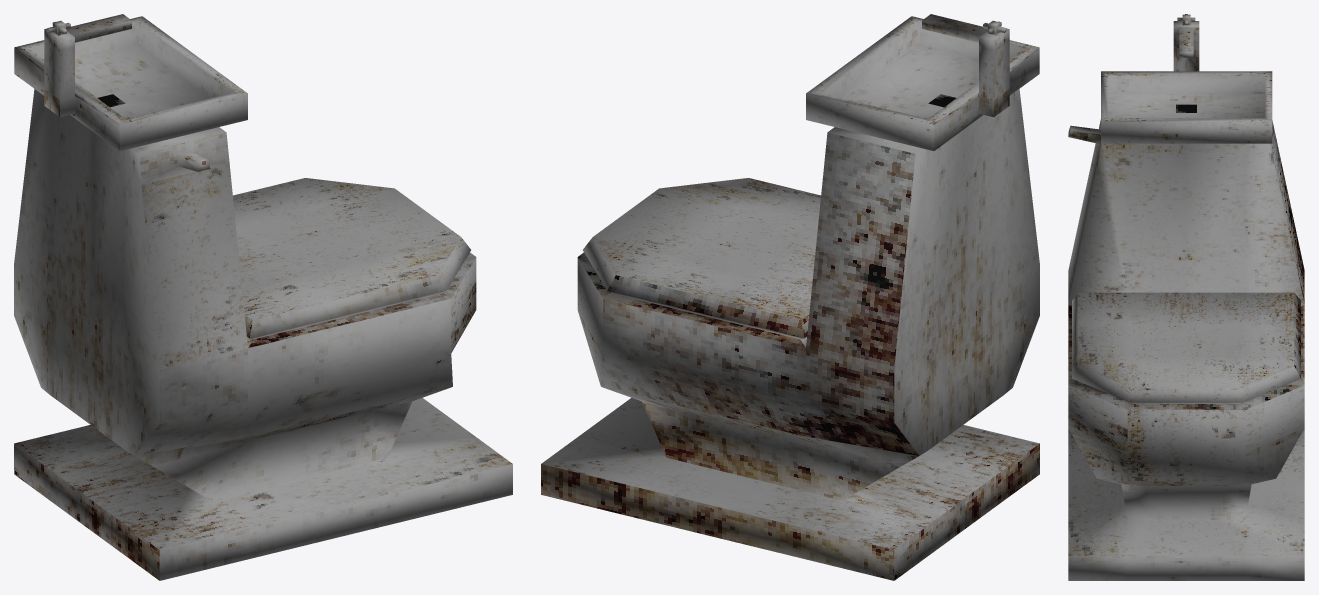
File: toilet.glb
The picture shows the model from 3 angles, left to right: view 1: azimuth 30°, elevation 25°; view 2: azimuth 150°, elevation 25°; view 3: azimuth 270°, elevation 25°; orthographic projection. The views are drawn at different scales.
Parts seen in each view (by area): view 1: Cube; view 2: Cube; view 3: Cube.
Boxes of the visible parts, x1,y1,x2,y2 form: Cube: [14, 14, 512, 580]; Cube: [541, 14, 1039, 580]; Cube: [1068, 14, 1304, 580].
Bounding box in the file's own units: 0.7762 × 0.968 × 0.5001.
Materials: 1 (1 with a texture image).
